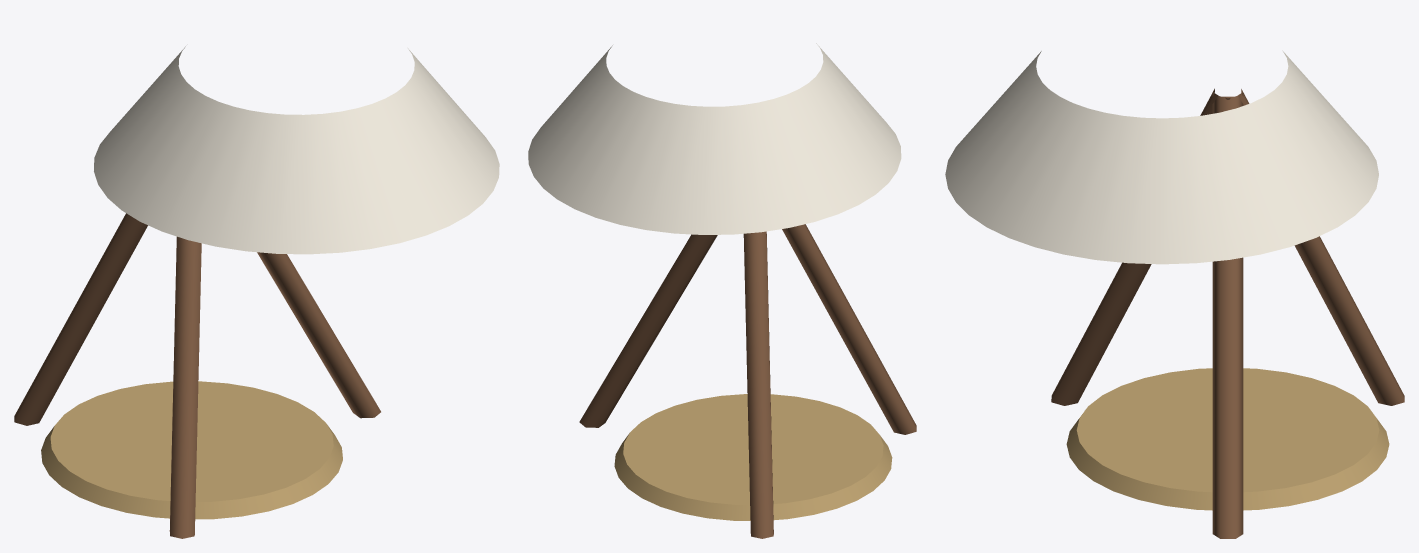
Rendered from lamp-16-2.glb.
3 views of the same model, side by side, from view 1: azimuth 30°, elevation 25°; view 2: azimuth 150°, elevation 25°; view 3: azimuth 270°, elevation 25° (orthographic). The views are drawn at different scales.
Visible parts, largest first — view 1: part (×3); view 2: part (×3); view 3: part (×3).
Boxes of the visible parts, <box> form: part (×3): <box>14,46,499,538</box>; part (×3): <box>528,43,916,538</box>; part (×3): <box>945,50,1404,538</box>.
Bounding box in the file's own units: 1 × 1 × 1.
